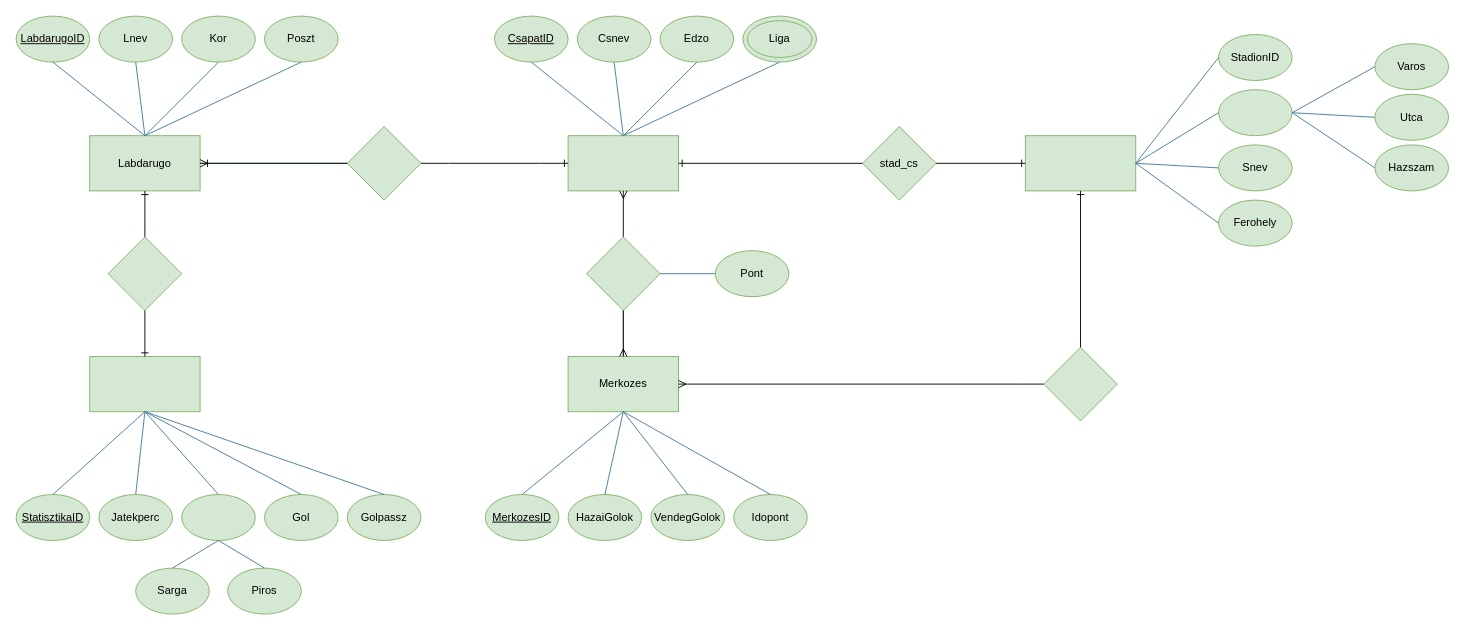
This 1465x630 diagram has some shape labels left out. The shapes that lost their labels are listed below. From the top down, each one's centre as x and y in pixels, then its label:
(1255,112): Cim
(383,163): cs_l
(622,163): Csapat
(1080,163): Stadion
(144,273): l_stat
(623,273): Jatszik
(144,384): Statisztika
(1080,383): stad_m
(218,517): Lapok
